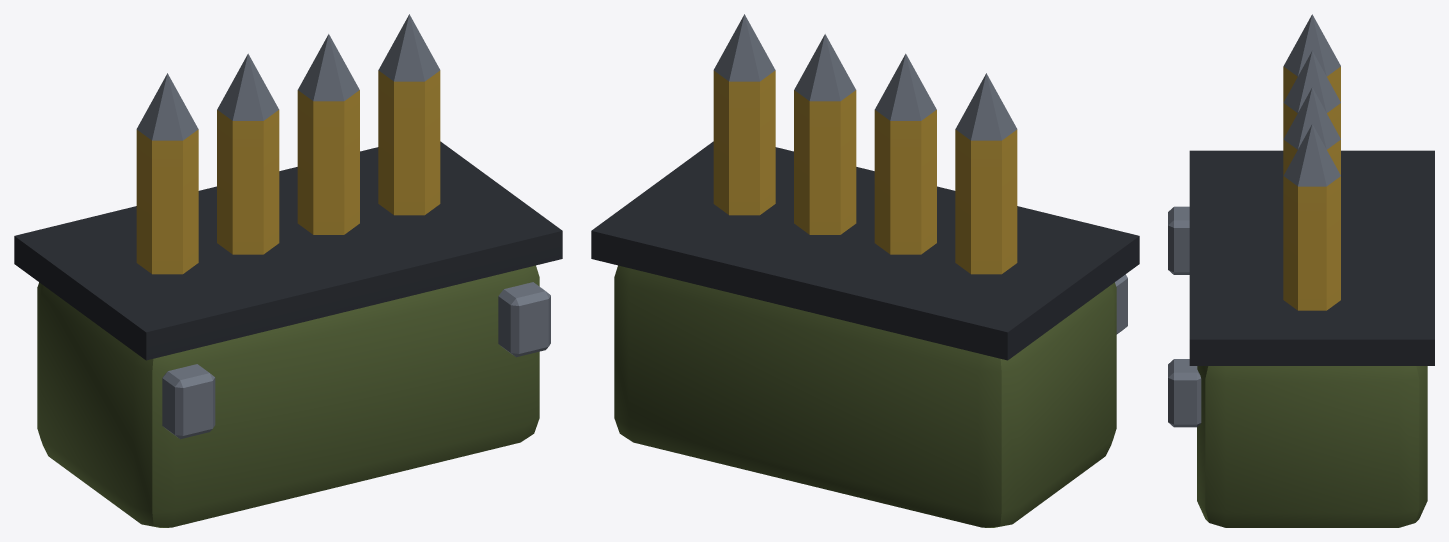
File: item_ammo.glb
The picture shows the model from 3 angles, left to right: view 1: azimuth 30°, elevation 25°; view 2: azimuth 150°, elevation 25°; view 3: azimuth 270°, elevation 25°; orthographic projection. The views are drawn at different scales.
Visible parts, largest first — view 1: item_ammo, item_ammo_detail; view 2: item_ammo, item_ammo_detail; view 3: item_ammo, item_ammo_detail.
Boxes of the visible parts, <box> form: item_ammo: <box>14,14,562,527</box>; item_ammo_detail: <box>162,282,550,439</box>; item_ammo: <box>591,14,1139,527</box>; item_ammo_detail: <box>1115,274,1127,334</box>; item_ammo: <box>1189,14,1434,527</box>; item_ammo_detail: <box>1168,206,1201,427</box>.
Bounding box in the file's own units: 0.31 × 0.29 × 0.185.
